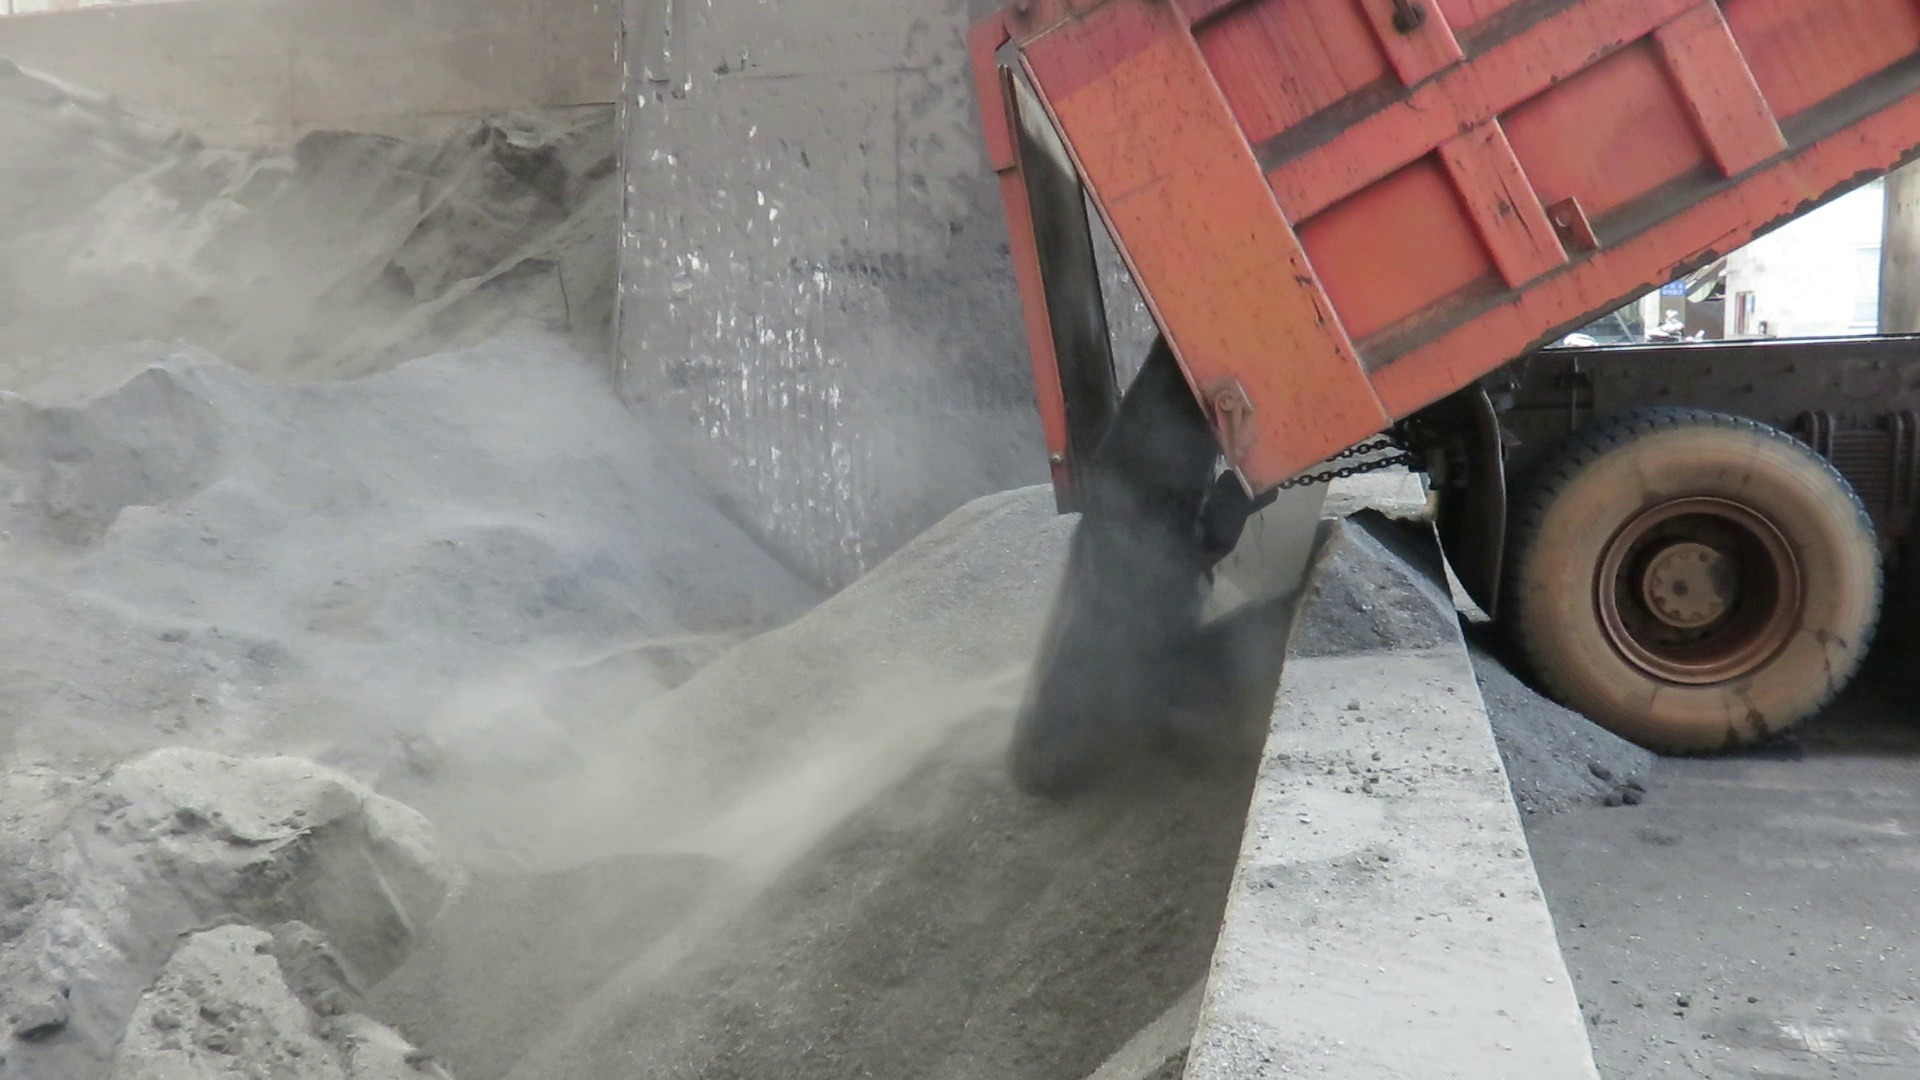dust: (9, 33, 975, 1025)
truck: (976, 0, 1920, 829)
